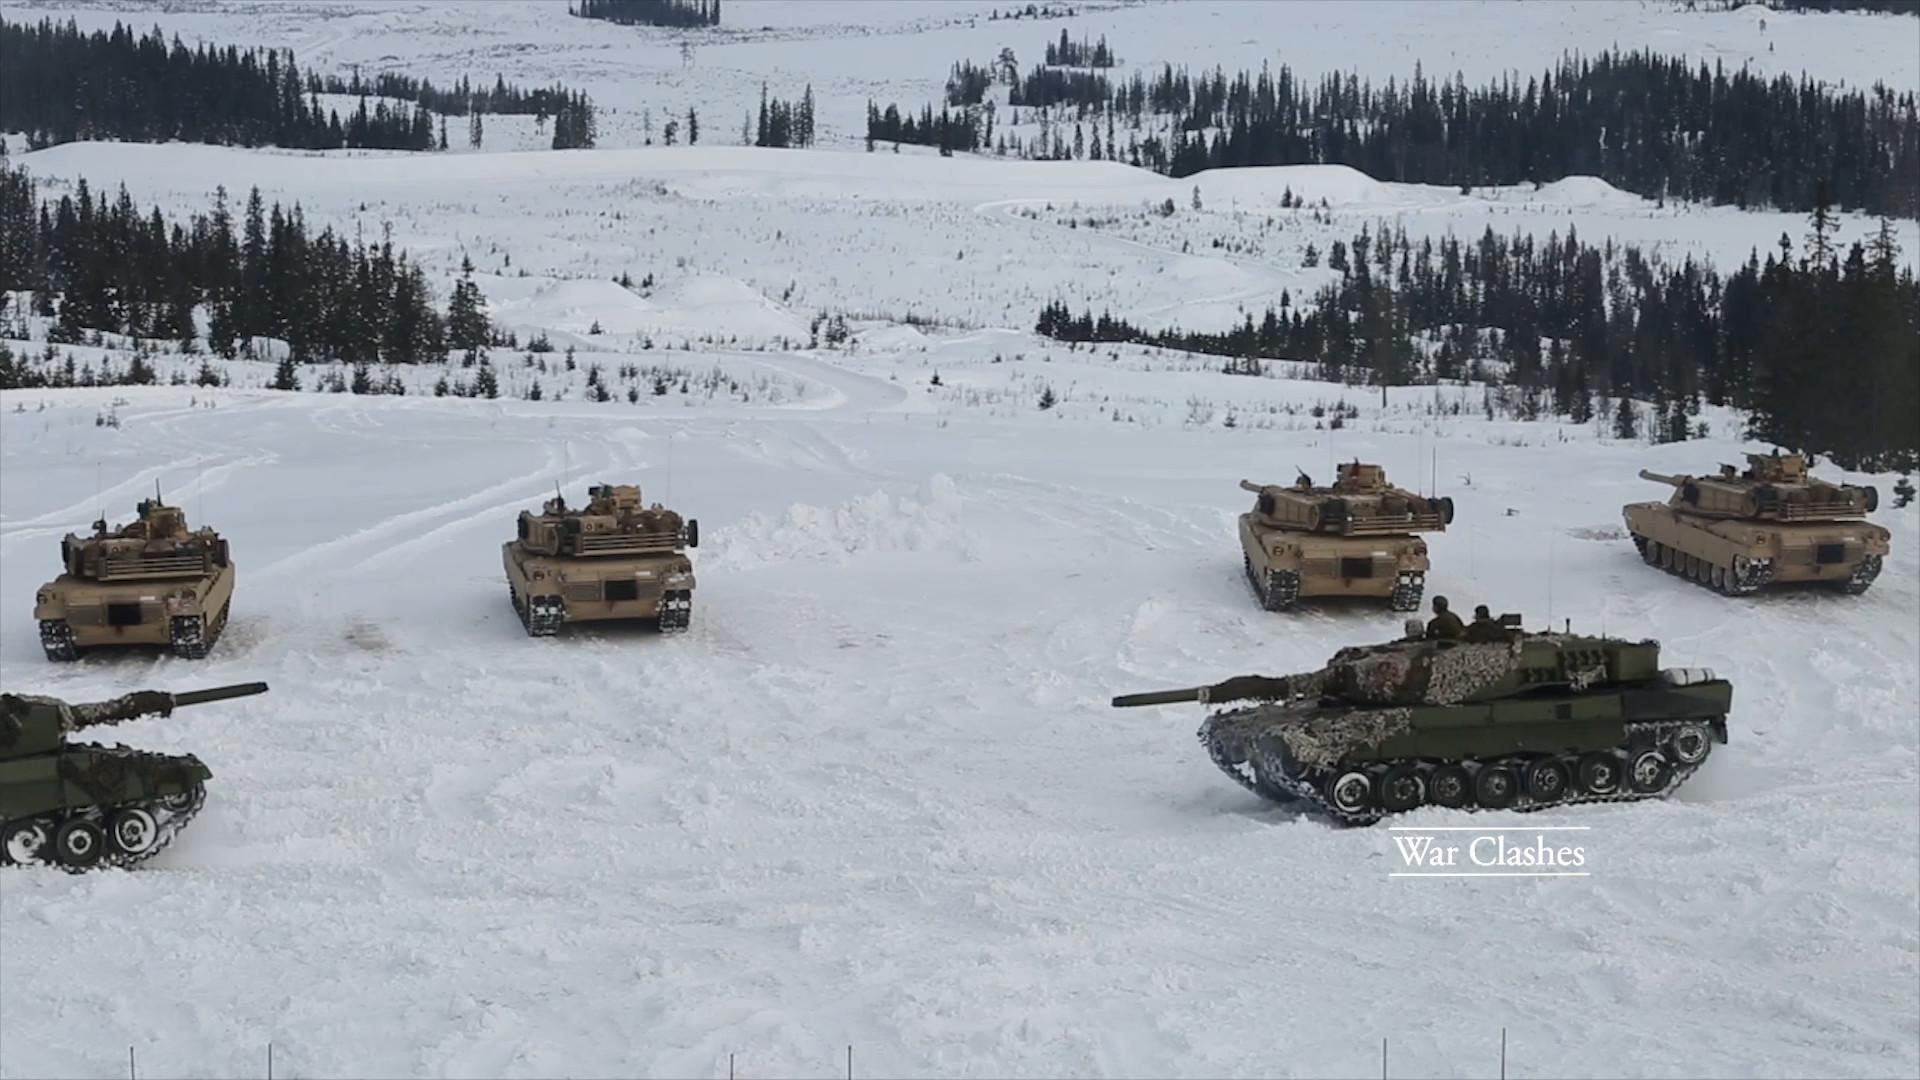tank: (1112, 614, 1730, 827), (0, 682, 270, 873), (1623, 453, 1890, 596), (34, 499, 233, 664), (1237, 465, 1453, 611), (501, 486, 698, 637)
